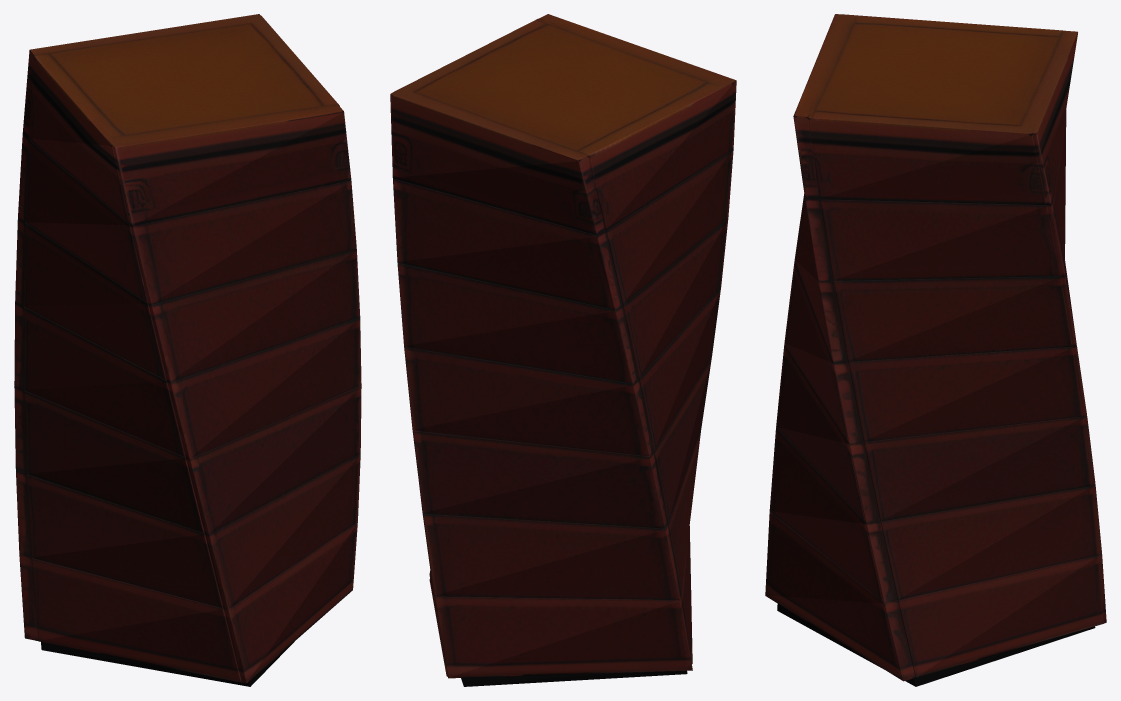
The model's file is edited_mesh.glb.
The picture shows the model from 3 angles, left to right: view 1: azimuth 30°, elevation 25°; view 2: azimuth 150°, elevation 25°; view 3: azimuth 270°, elevation 25°; orthographic projection.
Parts seen in each view (by area): view 1: normalized_model.obj; view 2: normalized_model.obj; view 3: normalized_model.obj.
Part boxes in pixels (box(x1,y1,x2,y2)): normalized_model.obj: box(14, 14, 361, 686); normalized_model.obj: box(390, 14, 736, 686); normalized_model.obj: box(765, 14, 1106, 686).
Bounding box in the file's own units: 0.8834 × 1.56 × 0.8848.
1 material, 1 textured.
